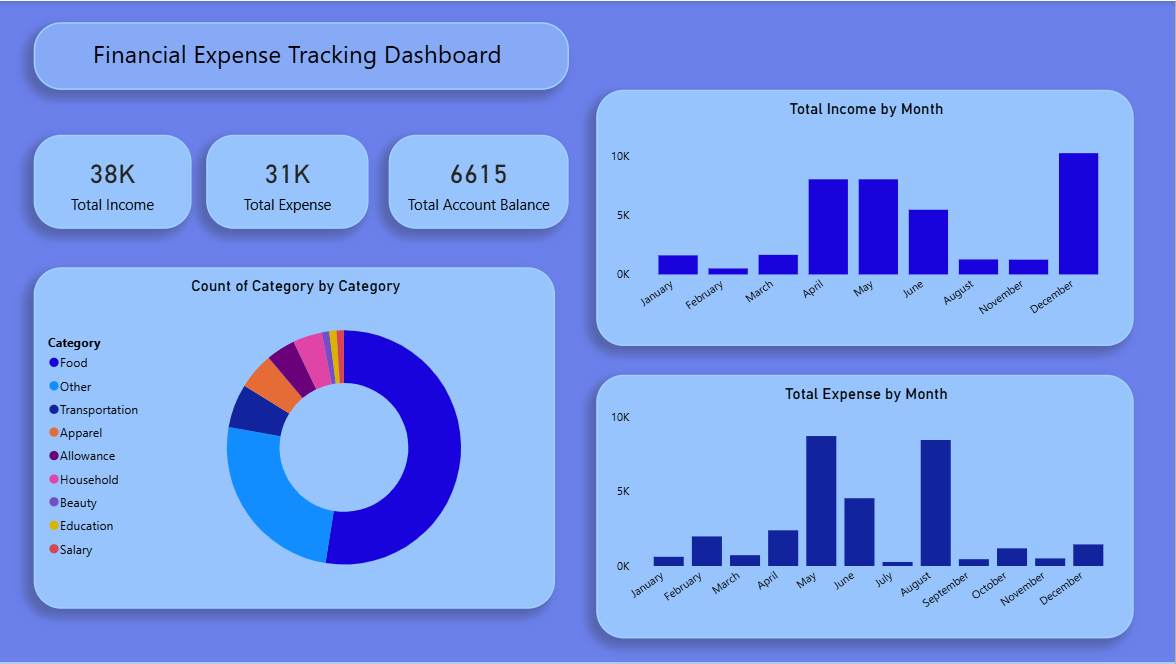

The dashboard page shown, as its layout file describes it:
{"tool":"powerbi","page":{"name":"Page 1","canvas":[1280,720],"ordinal":0},"visuals":[{"type":"donutChart","fields":{"Category":["expense_data_1.Category"],"Y":["CountNonNull(expense_data_1.Category)"]},"box":[36.8,290.1,568,371.8],"z":0},{"type":"columnChart","fields":{"Category":["expense_data_1.Date.Variation.Date Hierarchy.Month"],"Y":["expense_data_1.Total Income"]},"box":[649.7,96.7,585.7,279.2],"z":1000},{"type":"textbox","box":[36.8,23.2,582.9,73.5],"z":2000},{"type":"card","fields":{"Values":["expense_data_1.Total Income"]},"box":[36.8,145.7,171.6,102.1],"z":3000},{"type":"card","fields":{"Values":["expense_data_1.Total Expense"]},"box":[224.7,145.7,177.1,102.1],"z":4000},{"type":"card","fields":{"Values":["expense_data_1.Total Account Balance"]},"box":[423.6,145.7,196.1,102.1],"z":5000},{"type":"columnChart","fields":{"Category":["expense_data_1.Date.Variation.Date Hierarchy.Month"],"Y":["expense_data_1.Total Expense"]},"box":[649.7,407.2,585.7,287.4],"z":6000}]}

Visuals, with their boxes in screenshot pixels (x1, y1, x2, y2), scaled from the page's 1280x720 canvas onto the 1176x664 screenshot:
donutChart - expense_data_1.Category x CountNonNull(expense_data_1.Category): 34 268 556 610
columnChart - expense_data_1.Date.Variation.Date Hierarchy.Month x expense_data_1.Total Income: 597 89 1135 347
textbox: 34 21 569 89
card - expense_data_1.Total Income: 34 134 191 229
card - expense_data_1.Total Expense: 206 134 369 229
card - expense_data_1.Total Account Balance: 389 134 569 229
columnChart - expense_data_1.Date.Variation.Date Hierarchy.Month x expense_data_1.Total Expense: 597 376 1135 641
